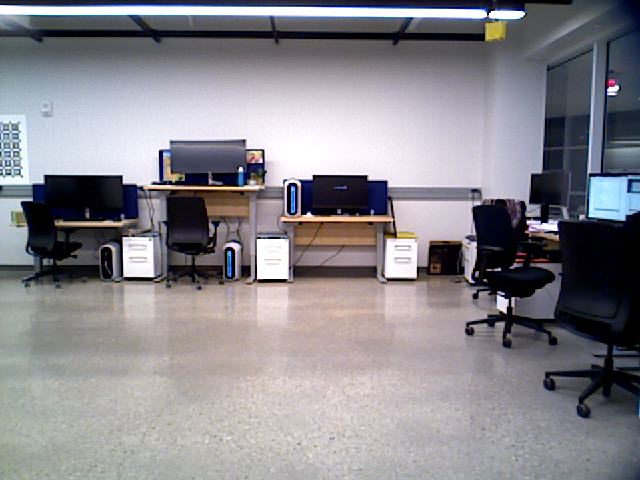painting4: (1, 111, 29, 183)
